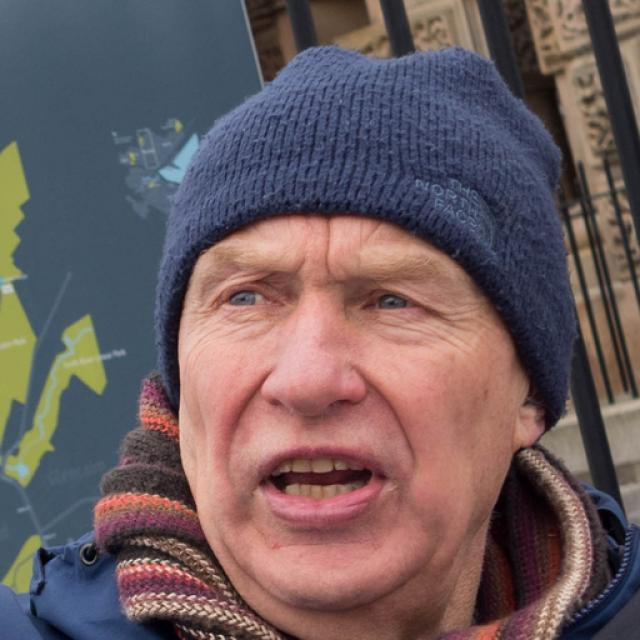disgust: (176, 200, 516, 605)
